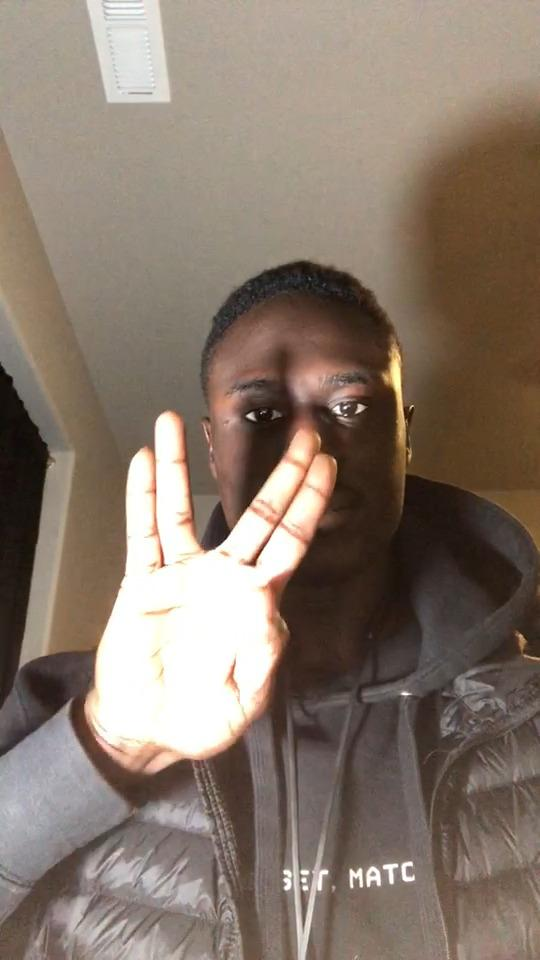face: (212, 303, 405, 586)
